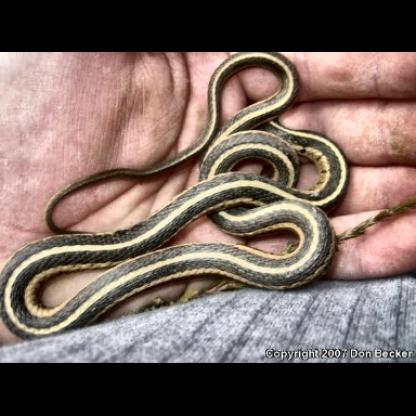Snake: (0, 53, 350, 339)
